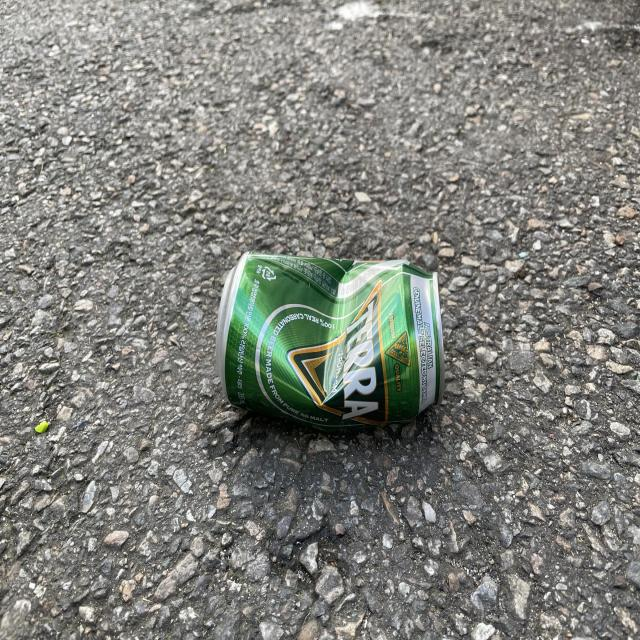can: (216, 252, 445, 430)
